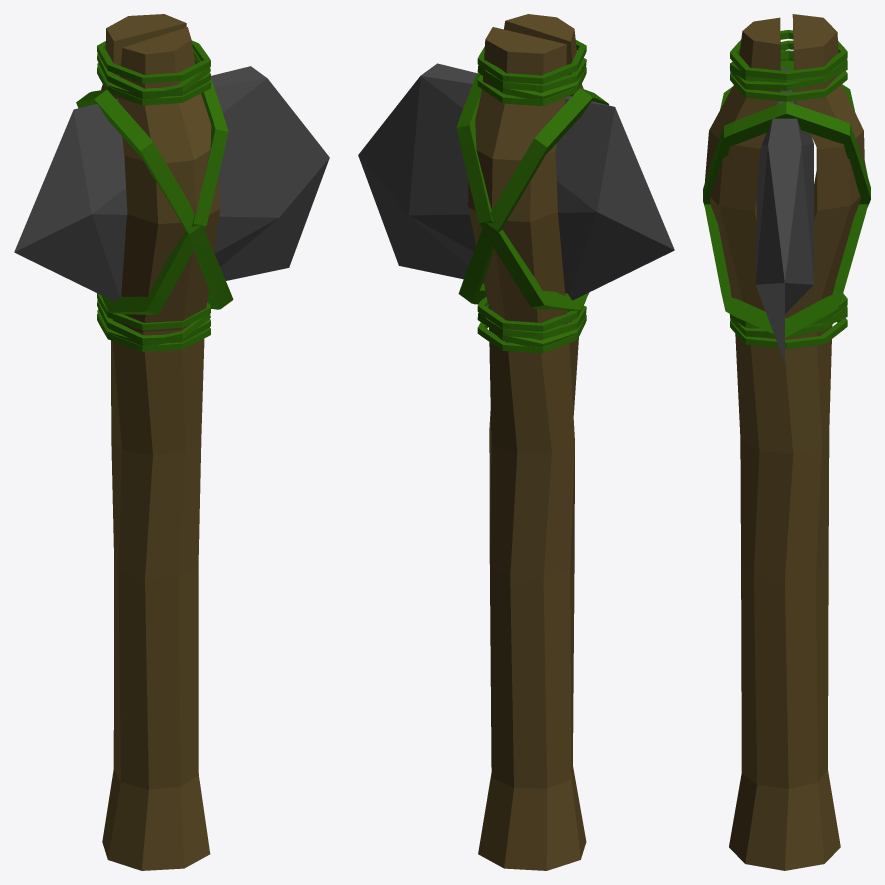
File: Primitve_Stone_Axe.fbx
3 renders of one model, left to right at view 1: azimuth 30°, elevation 25°; view 2: azimuth 150°, elevation 25°; view 3: azimuth 270°, elevation 25°, orthographic.
Parts seen in each view (by area): view 1: Grab, Stone, Rope_.008, Rope_.009, Rope_.003, Rope_.007, Rope_.002, Rope_.006, Rope_, Rope_.004, Rope_.001, Rope_.005; view 2: Grab, Stone, Rope_.008, Rope_.009, Rope_.003, Rope_.007, Rope_.004, Rope_.006, Rope_.002, Rope_, Rope_.005, Rope_.001; view 3: Grab, Stone, Rope_.009, Rope_.008, Rope_.003, Rope_, Rope_.004, Rope_.002, Rope_.006, Rope_.001.
Boxes of the visible parts, bbox=[...] form: Grab: bbox=[101, 14, 219, 870]; Stone: bbox=[14, 66, 329, 302]; Rope_.008: bbox=[76, 89, 233, 309]; Rope_.009: bbox=[102, 79, 228, 314]; Rope_.003: bbox=[97, 40, 210, 83]; Rope_.007: bbox=[97, 293, 210, 330]; Rope_.002: bbox=[97, 53, 210, 97]; Rope_.006: bbox=[97, 300, 210, 343]; Rope_: bbox=[97, 67, 210, 105]; Rope_.004: bbox=[97, 314, 210, 351]; Rope_.001: bbox=[97, 49, 210, 99]; Rope_.005: bbox=[97, 309, 210, 345]; Grab: bbox=[468, 14, 586, 870]; Stone: bbox=[358, 63, 674, 300]; Rope_.008: bbox=[458, 88, 608, 304]; Rope_.009: bbox=[456, 73, 589, 312]; Rope_.003: bbox=[477, 40, 586, 84]; Rope_.007: bbox=[477, 296, 586, 331]; Rope_.004: bbox=[477, 314, 586, 353]; Rope_.006: bbox=[477, 305, 586, 339]; Rope_.002: bbox=[477, 58, 586, 91]; Rope_: bbox=[477, 67, 586, 105]; Rope_.005: bbox=[478, 304, 585, 347]; Rope_.001: bbox=[478, 65, 585, 99]; Grab: bbox=[704, 14, 864, 870]; Stone: bbox=[755, 50, 813, 363]; Rope_.009: bbox=[703, 101, 870, 207]; Rope_.008: bbox=[703, 60, 867, 337]; Rope_.003: bbox=[730, 30, 847, 79]; Rope_: bbox=[730, 58, 847, 101]; Rope_.004: bbox=[730, 318, 847, 348]; Rope_.002: bbox=[729, 40, 847, 90]; Rope_.006: bbox=[729, 305, 847, 337]; Rope_.001: bbox=[730, 50, 847, 82].
Bounding box in the file's own units: 335 × 827 × 154.
